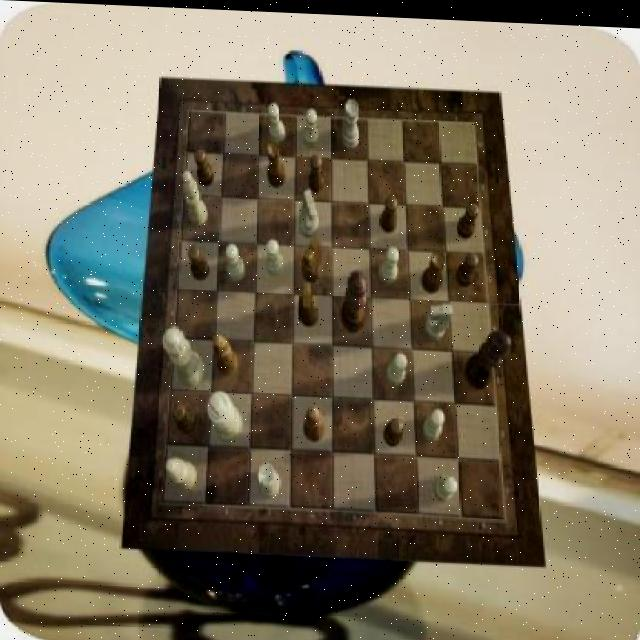bishop: (212, 332, 237, 375), (302, 403, 325, 440)
black-bishop: (465, 324, 509, 385)
black-king: (300, 233, 320, 280), (297, 280, 317, 326)
black-knight: (456, 197, 479, 234), (454, 248, 477, 283), (187, 243, 209, 279), (194, 147, 214, 186), (172, 402, 195, 433), (381, 192, 398, 230), (383, 413, 403, 445), (308, 151, 324, 190)
black-pawn: (340, 267, 368, 331)
black-queen: (422, 245, 446, 289), (267, 139, 285, 187)
black-rook: (182, 168, 206, 223), (165, 455, 197, 490)
white-bishop: (206, 388, 242, 442)
white-king: (423, 299, 451, 336), (298, 188, 318, 236)
white-knight: (378, 242, 398, 281), (224, 240, 244, 278), (267, 237, 285, 274), (424, 406, 444, 439), (386, 350, 406, 383), (268, 100, 284, 141), (433, 470, 457, 497), (303, 106, 319, 145)
white-pawn: (162, 326, 204, 387)
white-queen: (341, 96, 358, 146), (257, 460, 280, 495)
